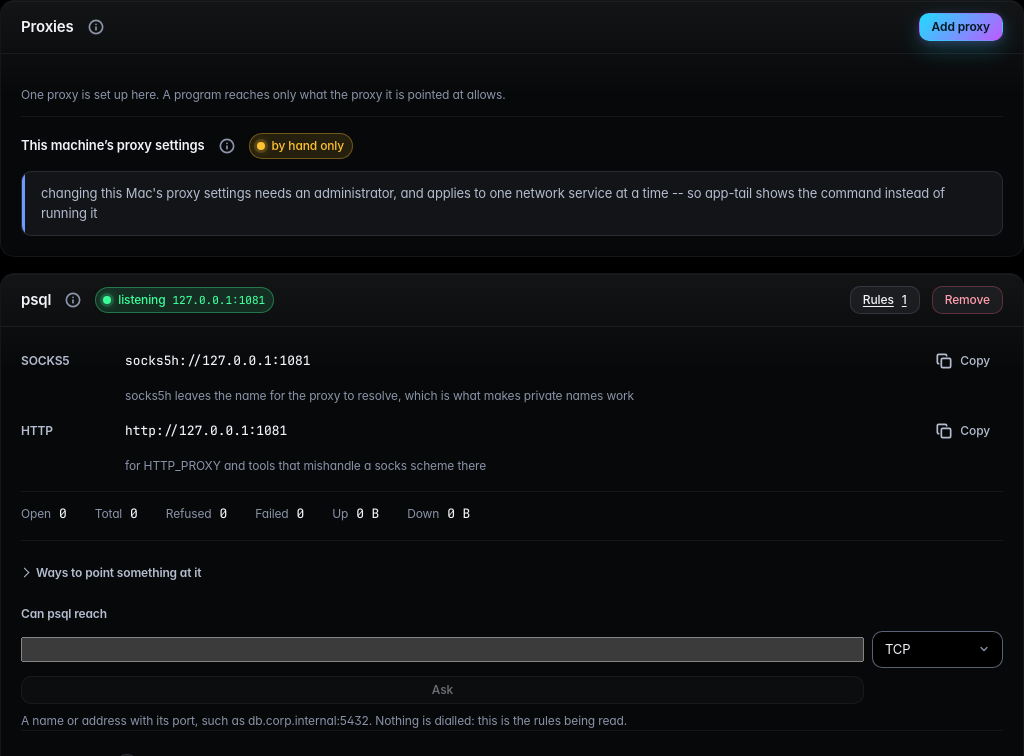
the proxies › reports why a removal was refused
The width and height of the screenshot is (1024, 756).
Click the button "Remove": point(967, 300) x1=932 y1=286 x2=1003 y2=314
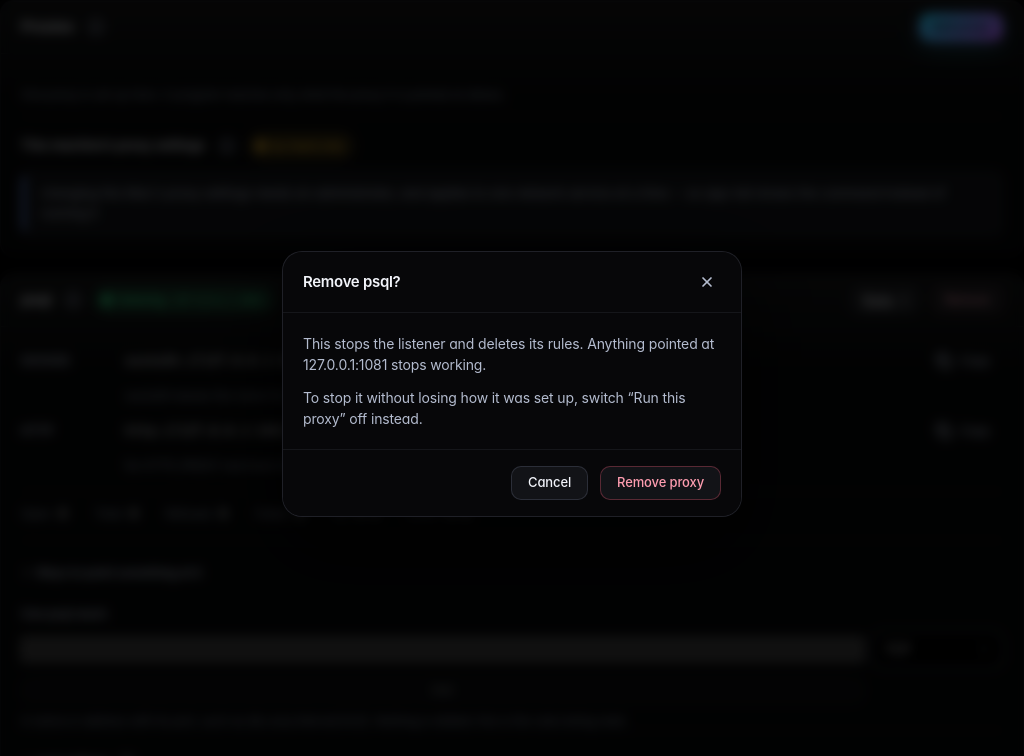
Click the button "Remove proxy": point(661, 483) x1=600 y1=466 x2=721 y2=500
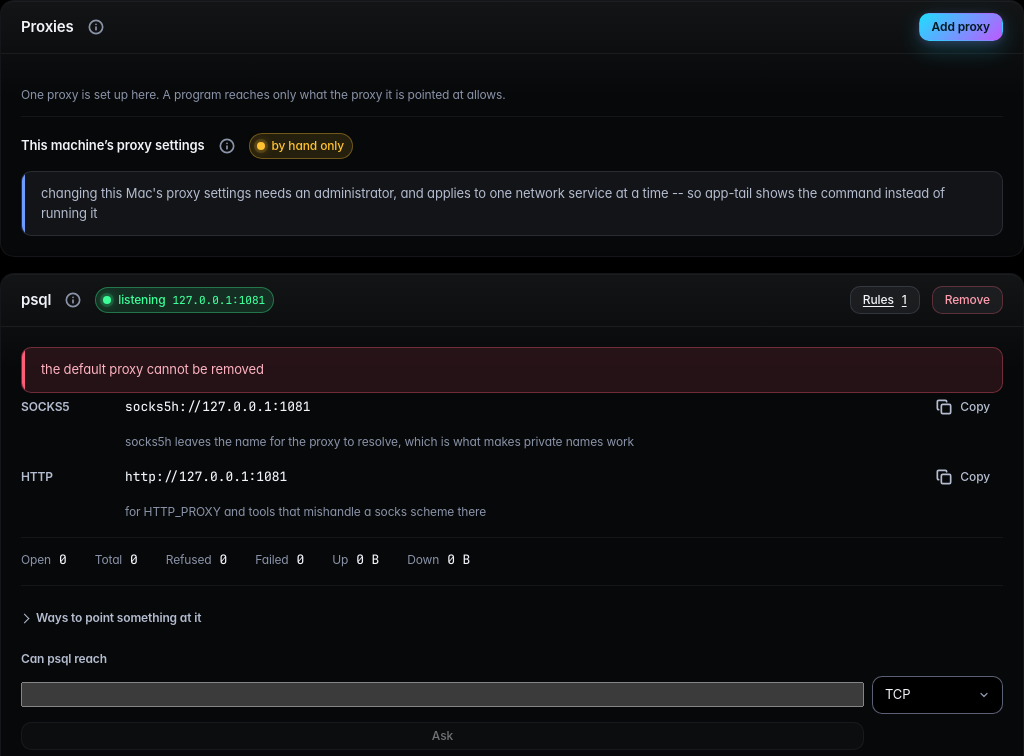
Expected: the text "the default proxy cannot be removed" is shown, x1=21 y1=347 x2=1003 y2=392
